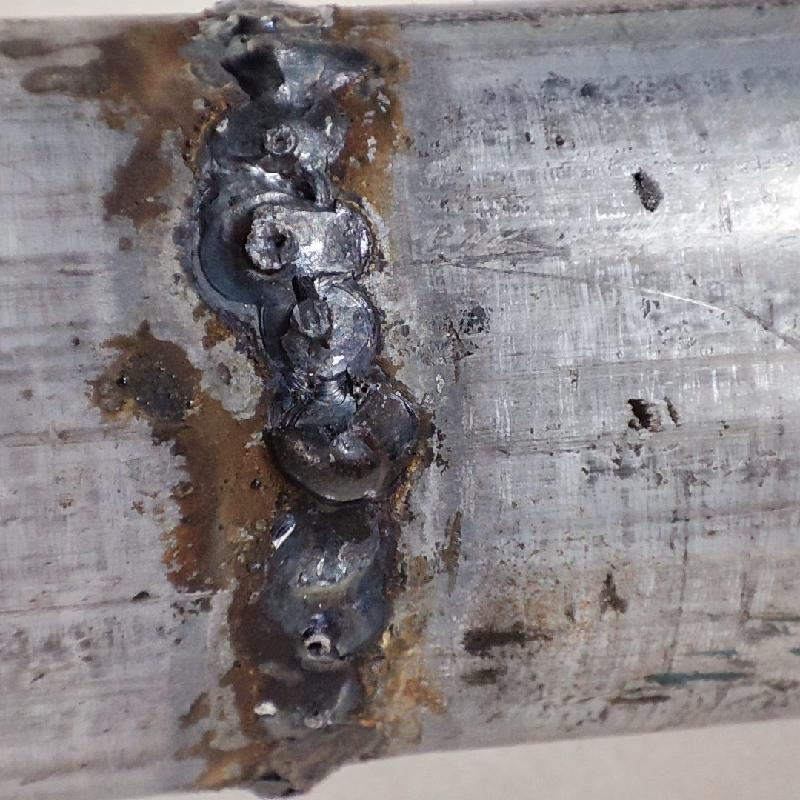Surface_pores: (260, 215, 305, 260), (295, 629, 337, 662), (263, 123, 300, 153)
Weld: (266, 402, 389, 508)
